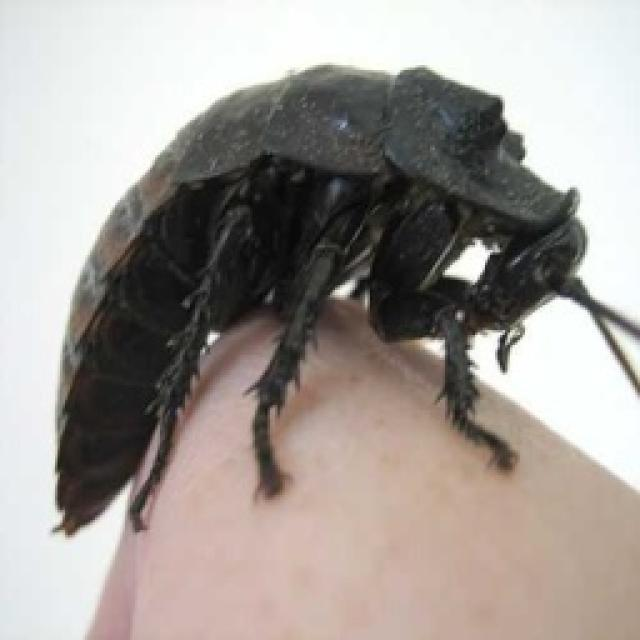cockroach: (49, 61, 636, 538)
